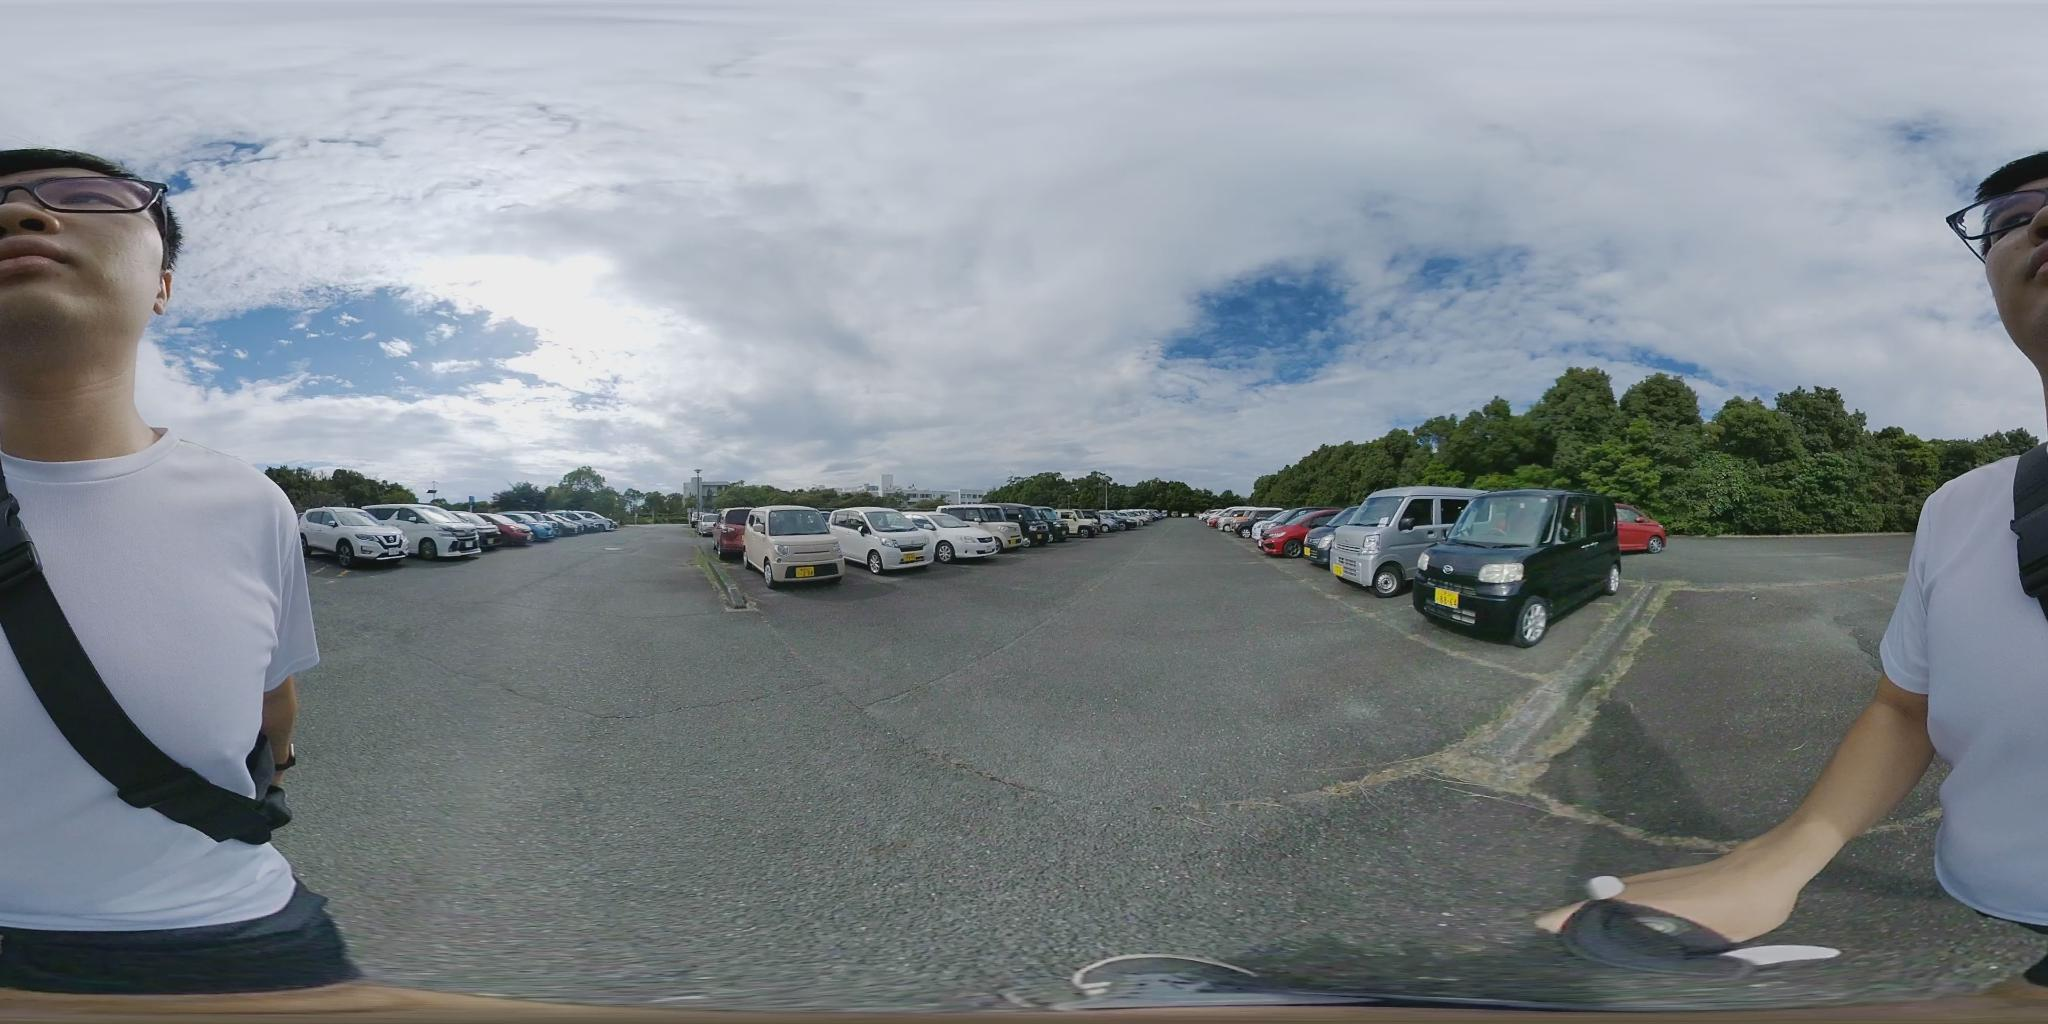car: (1417, 490, 1617, 640), (1311, 487, 1486, 593), (304, 503, 494, 563), (828, 509, 1003, 573), (936, 503, 1055, 549), (925, 509, 1014, 559), (1256, 511, 1341, 559), (700, 505, 781, 555), (1617, 503, 1669, 555), (469, 512, 533, 549), (1203, 505, 1275, 534), (488, 516, 556, 546), (708, 511, 754, 555), (545, 513, 614, 539), (1014, 511, 1064, 546), (452, 516, 504, 550), (697, 508, 751, 539), (1028, 512, 1083, 542), (519, 515, 572, 543), (569, 511, 623, 533), (1101, 508, 1161, 526), (1068, 515, 1112, 538), (1087, 513, 1130, 536), (1203, 508, 1242, 530), (691, 508, 722, 533), (1128, 508, 1168, 522)
